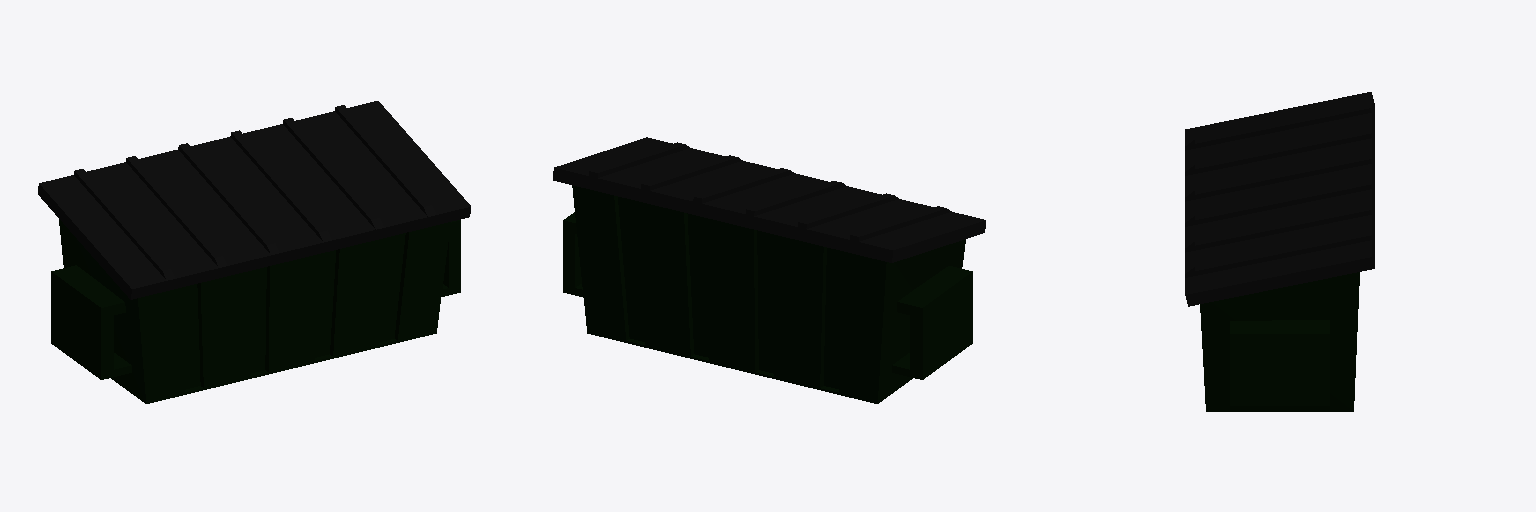
File: Basurero_01.obj
3 views of the same model, side by side, from view 1: azimuth 30°, elevation 25°; view 2: azimuth 150°, elevation 25°; view 3: azimuth 270°, elevation 25° (orthographic).
Visible parts, largest first — view 1: Cube.004_Cube.026; view 2: Cube.004_Cube.026; view 3: Cube.004_Cube.026.
Boxes of the visible parts, x1=… form: Cube.004_Cube.026: x1=38, y1=101, x2=470, y2=403; Cube.004_Cube.026: x1=553, y1=137, x2=985, y2=403; Cube.004_Cube.026: x1=1185, y1=92, x2=1374, y2=411.
Size of the model in its own units: 8.28 by 3.76 by 3.77.